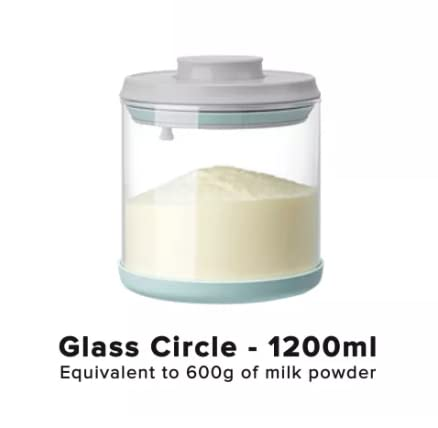-: (248, 347, 257, 351)
600g: (187, 365, 233, 382)
Circle: (151, 335, 237, 357)
Equivalent: (60, 365, 155, 382)
Glass: (59, 336, 139, 357)
milk: (266, 365, 301, 379)
of: (241, 365, 259, 379)
powder: (309, 365, 376, 382)
to: (162, 366, 179, 379)
